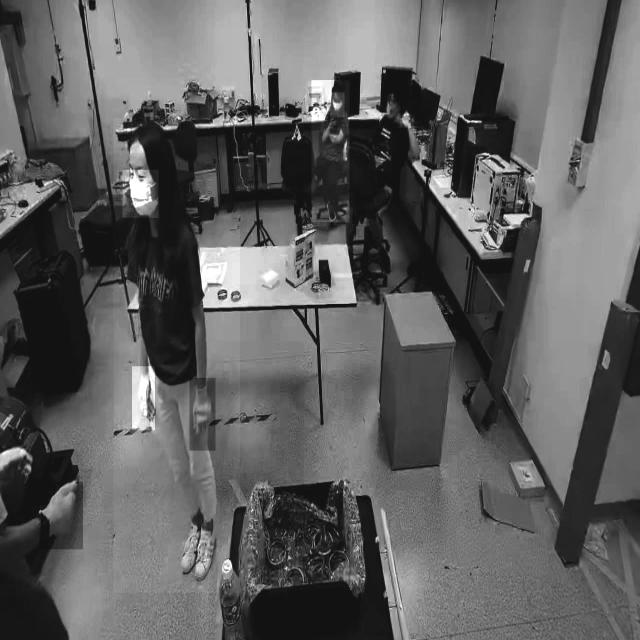face_mask: (122, 170, 158, 218), (330, 92, 344, 118)
hand_glove: (41, 482, 83, 550), (190, 378, 216, 452), (132, 366, 156, 431)
hand_noglove: (397, 114, 411, 129), (328, 115, 338, 128)
head_nohelmet: (128, 121, 172, 154), (388, 80, 406, 95), (332, 78, 346, 92)
person: (114, 118, 240, 594), (365, 80, 417, 277), (312, 80, 350, 223)
shoes: (193, 518, 220, 582), (176, 519, 204, 580)
